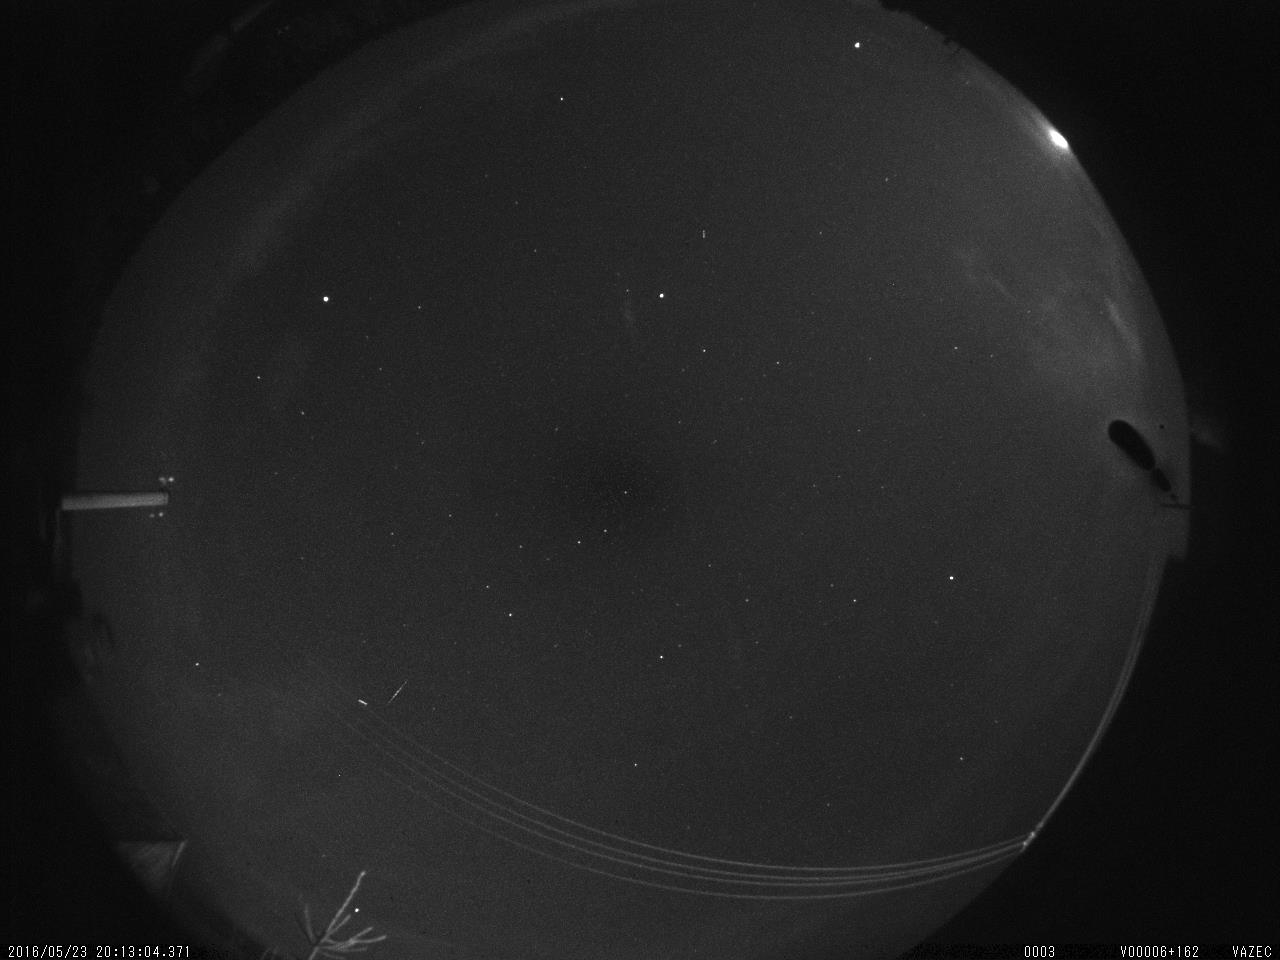meteor: (382, 675, 410, 710)
